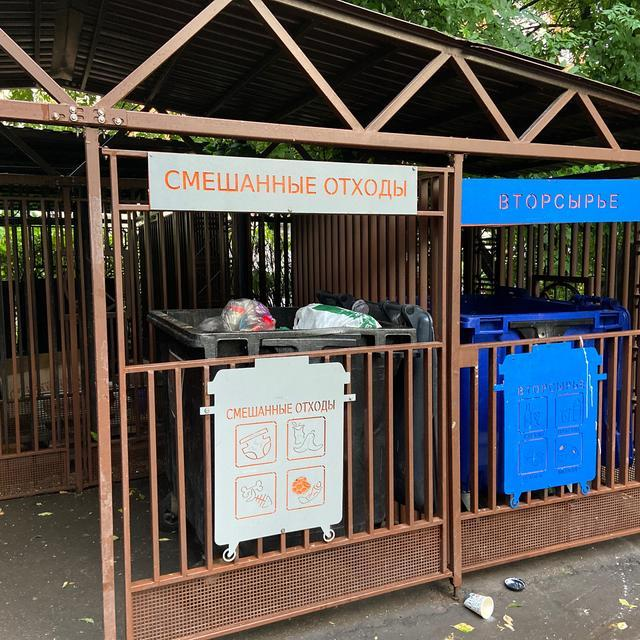Trash_Can_Empty: (463, 289, 621, 493)
Trash_Can_Full: (145, 288, 412, 558)
